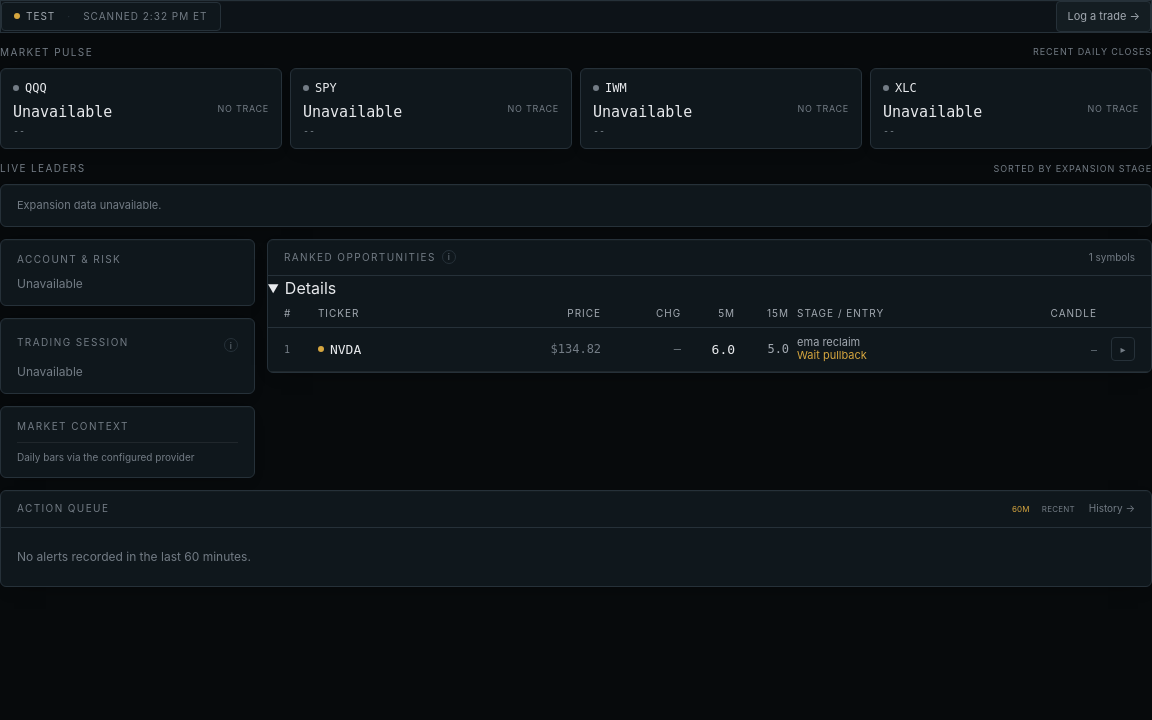
it: dashboard auto-refresh — preserves user state › 11 + 13. expanded checklist survives (background refresh does not reset it)
Click the button named "Expand NVDA setup detail" at (1123, 349), box [1111, 337, 1135, 361]
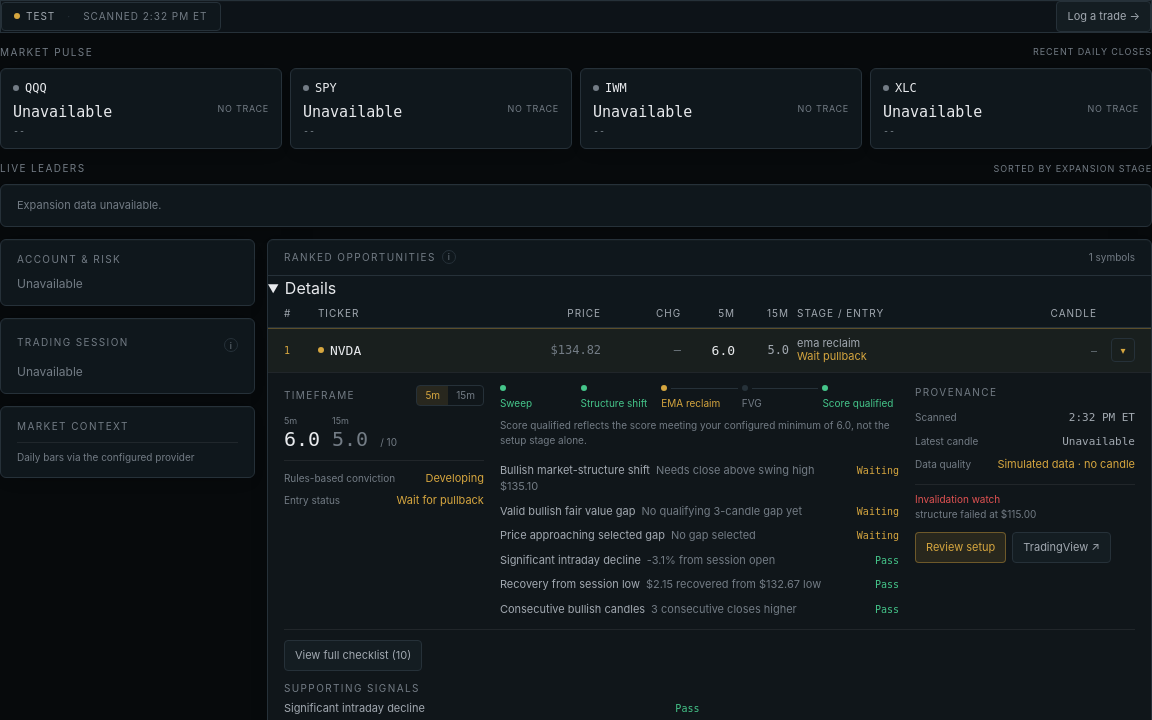
Click the button "View full checklist (10)" at (353, 655), box [284, 640, 422, 670]
Wait 60000 ms
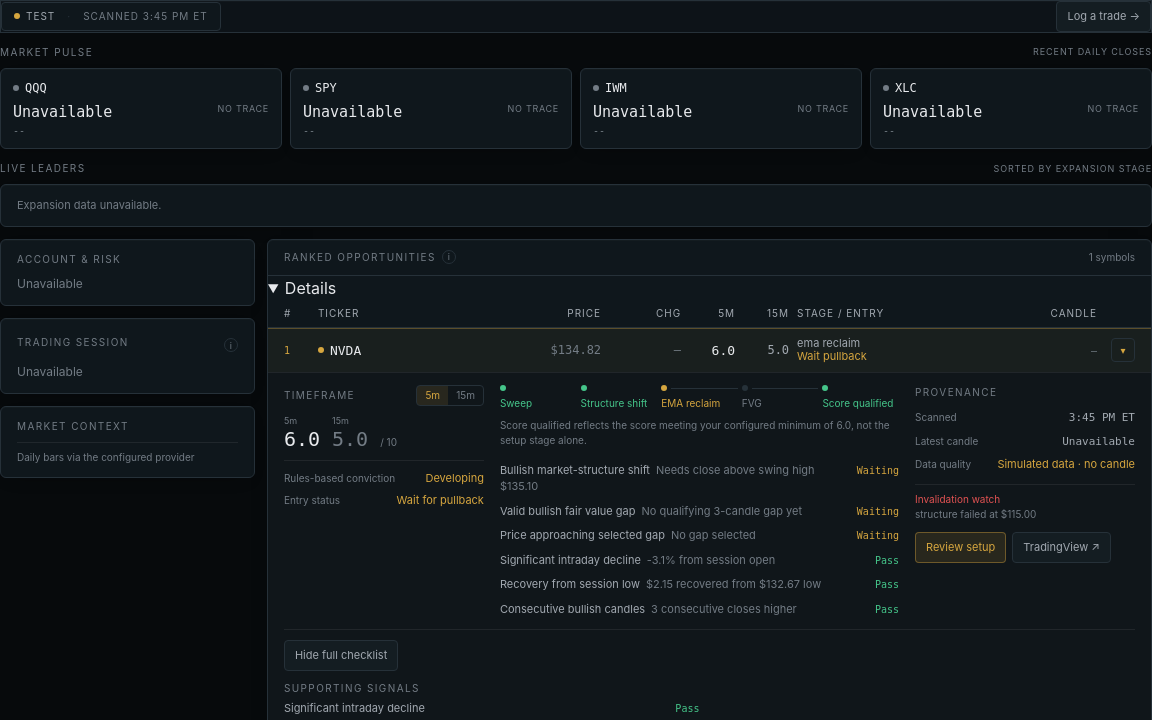
Check: the button "Hide full checklist" is shown, box [284, 640, 398, 670]
